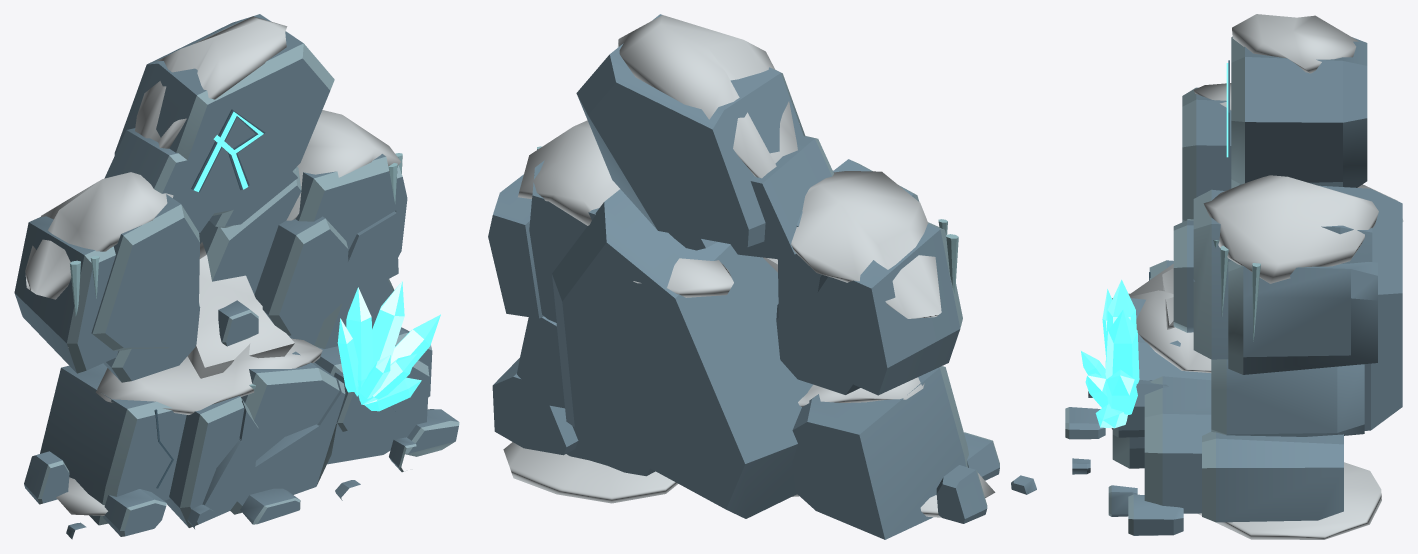
Rendered from rune_rock.glb.
3 renders of one model, left to right at view 1: azimuth 30°, elevation 25°; view 2: azimuth 150°, elevation 25°; view 3: azimuth 270°, elevation 25°, orthographic. The views are drawn at different scales.
Parts seen in each view (by area): view 1: RuneRock; view 2: RuneRock; view 3: RuneRock.
Part boxes in pixels (x1,y1,x2,y2): RuneRock: (14,14,459,539); RuneRock: (488,14,1036,539); RuneRock: (1065,14,1403,539).
Size of the model in its own units: 4.01 by 4.03 by 2.69.
